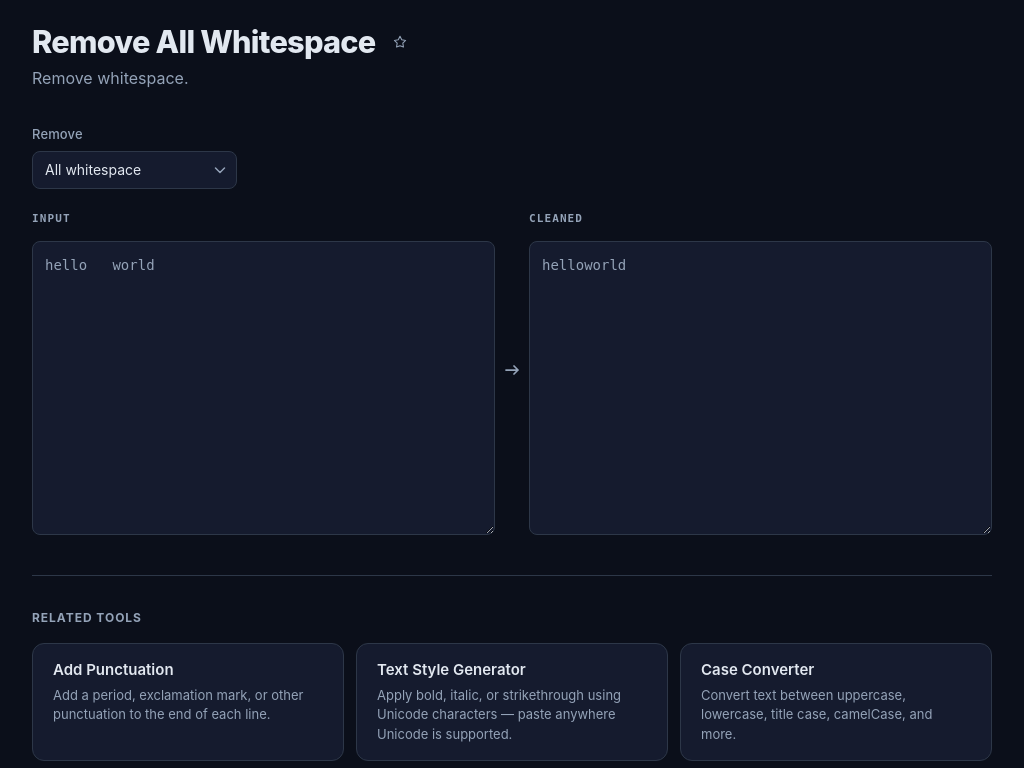
Test: RemoveAllWhitespace › removes all whitespace by default
In the text box named "input": (264, 388) [32, 240, 495, 535], type "a b c"
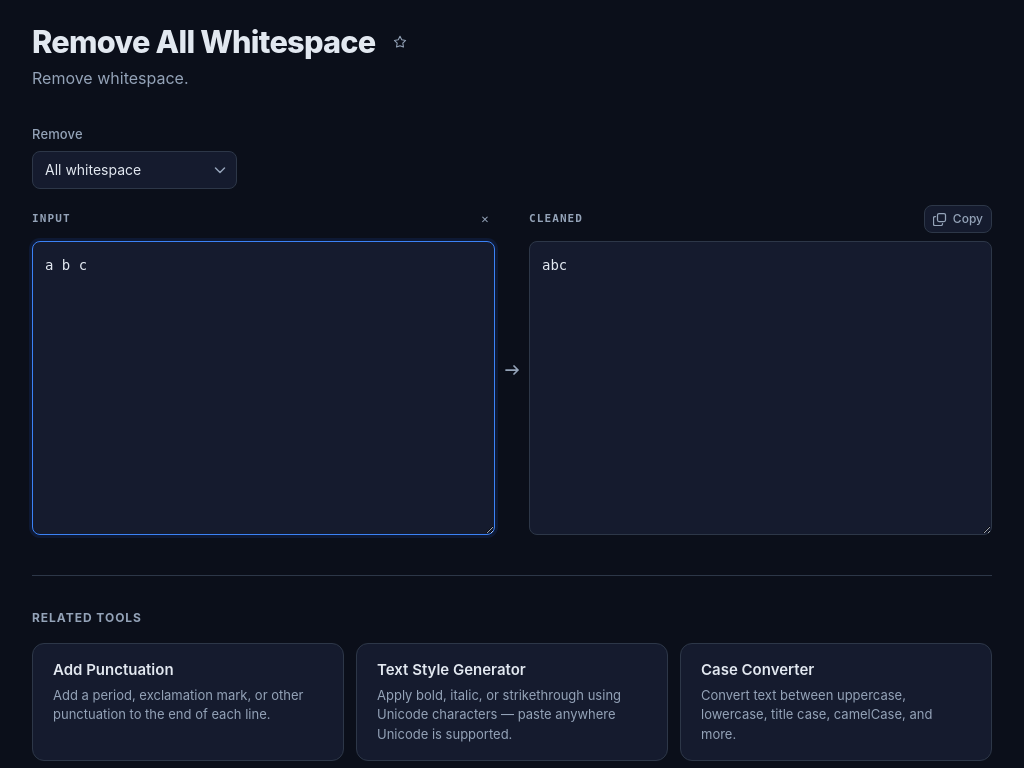
Expected: the text box named "cleaned" holds "abc", [529, 240, 992, 535]
